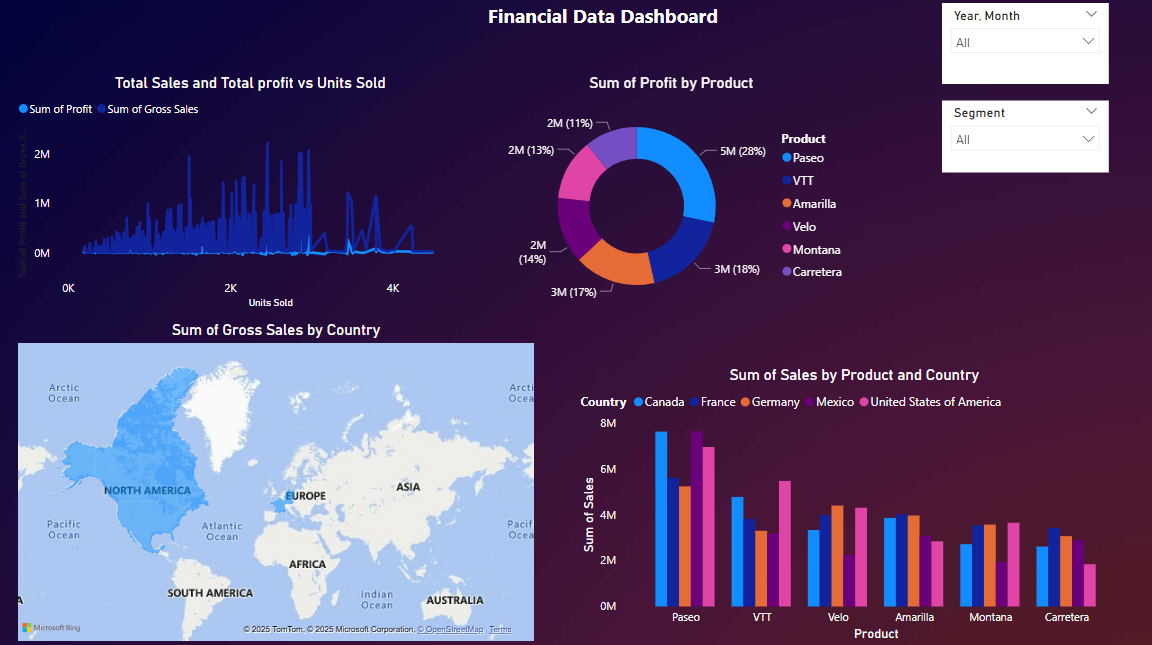

What the dashboard file says about the page in this screenshot:
{"tool":"powerbi","page":{"name":"Page 1","canvas":[1280,720],"ordinal":0},"visuals":[{"type":"textbox","box":[456.7,0,426.7,51.7],"z":0},{"type":"lineChart","title":"Total Sales and Total profit vs Units Sold","fields":{"Category":["Sheet1.Units Sold"],"Y":["Sum(Sheet1.Profit)","Sum(Sheet1.Gross Sales)"]},"box":[14.3,84.2,526.1,265.4],"z":1000},{"type":"filledMap","fields":{"Category":["Sheet1.Country"]},"box":[15,360,583.3,360],"z":2000},{"type":"clusteredColumnChart","fields":{"Category":["Sheet1.Product"],"Series":["Sheet1.Country"],"Y":["Sum(Sheet1.Sales)"]},"box":[640,410,618.3,310],"z":3000},{"type":"donutChart","fields":{"Y":["Sum(Sheet1.Profit)"],"Category":["Sheet1.Product"]},"box":[541.7,85,408.3,275],"z":4000},{"type":"slicer","fields":{"Values":["Sheet1.Date.Variation.Date Hierarchy.Year","Sheet1.Date.Variation.Date Hierarchy.Month"]},"box":[1046.7,6.7,185,90],"z":4001},{"type":"slicer","fields":{"Values":["Sheet1.Segment"]},"box":[1046.7,115,185,80],"z":4002}]}

Visuals, with their boxes in screenshot pixels (x1, y1, x2, y2), scaled from the page's 1280x720 canvas onto the 1152x645 screenshot:
textbox: box=[411, 0, 795, 46]
"Total Sales and Total profit vs Units Sold" lineChart: box=[13, 75, 486, 313]
filledMap - Sheet1.Country: box=[14, 322, 538, 644]
clusteredColumnChart - Sheet1.Product x Sheet1.Country: box=[576, 367, 1132, 644]
donutChart - Sum(Sheet1.Profit) x Sheet1.Product: box=[488, 76, 855, 322]
slicer - Sheet1.Date.Variation.Date Hierarchy.Year x Sheet1.Date.Variation.Date Hierarchy.Month: box=[942, 6, 1109, 87]
slicer - Sheet1.Segment: box=[942, 103, 1109, 175]
